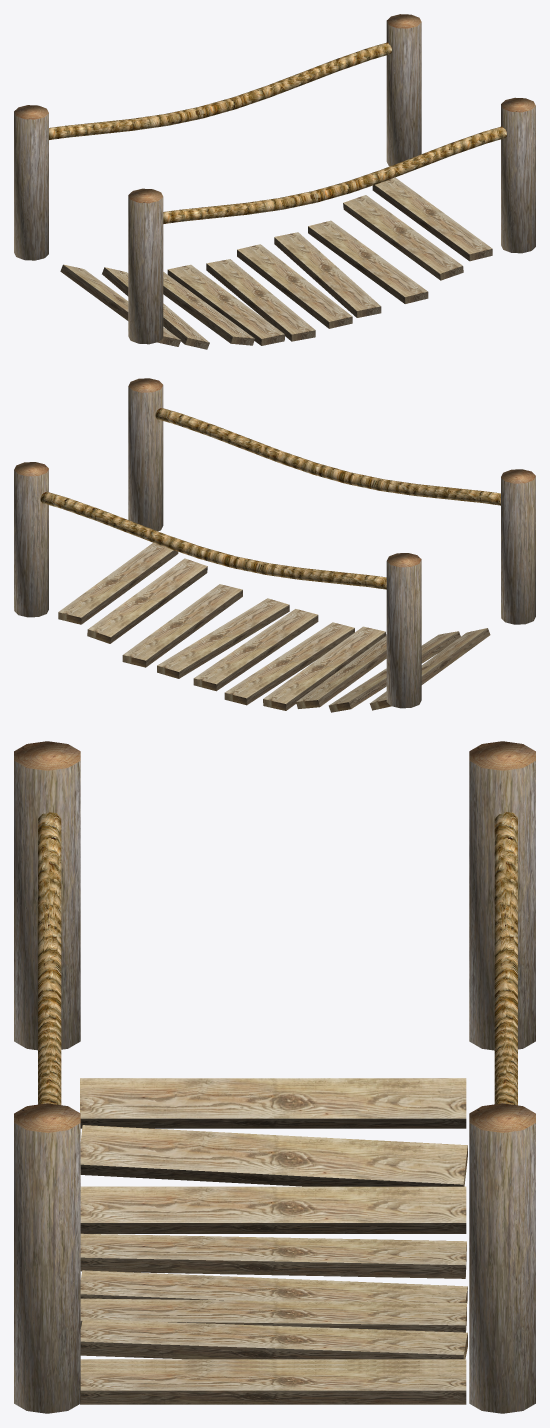
File: bridge.fbx
3 renders of one model, top to bottom at view 1: azimuth 30°, elevation 25°; view 2: azimuth 150°, elevation 25°; view 3: azimuth 270°, elevation 25°, orthographic. The views are drawn at different scales.
Parts seen in each view (by area): view 1: polySurface79; view 2: polySurface79; view 3: polySurface79.
Boxes of the visible parts, bbox=[...] form: polySurface79: bbox=[14, 14, 535, 349]; polySurface79: bbox=[14, 378, 535, 712]; polySurface79: bbox=[14, 741, 535, 1413].
Size of the model in its own units: 10.85 by 4.96 by 6.11.
5 materials, 4 textured.
